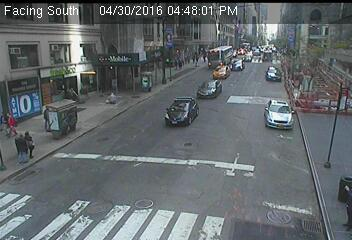neg: (315, 119, 336, 147), (157, 177, 176, 202), (239, 132, 257, 157), (176, 100, 194, 124), (131, 134, 149, 157), (242, 70, 257, 90), (129, 89, 143, 108), (273, 102, 286, 120), (269, 64, 281, 80), (209, 79, 218, 91)
pos: (12, 132, 35, 161), (19, 128, 39, 155), (1, 111, 18, 135)
